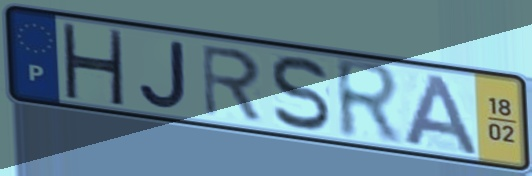A: (401, 71, 483, 158)
H: (58, 20, 127, 109)
J: (135, 37, 191, 112)
R: (331, 55, 405, 149), (197, 42, 265, 124)
S: (269, 54, 333, 135)
